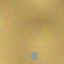person: (30, 51, 38, 60)
structure: (35, 25, 53, 40)
